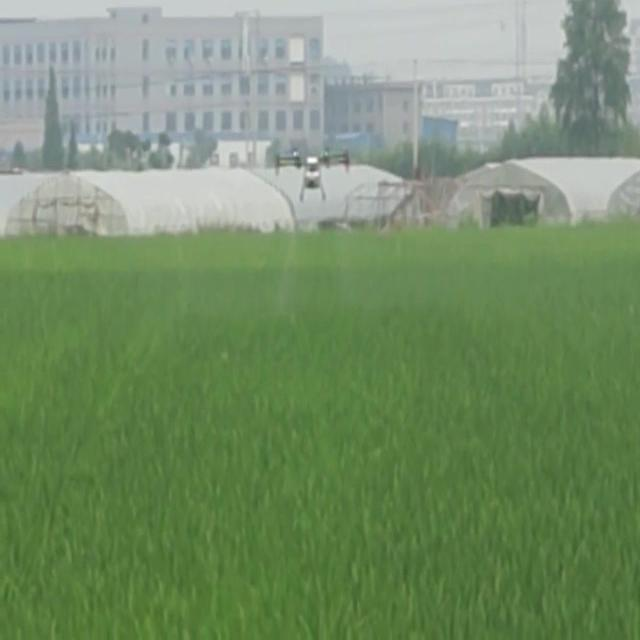drone: (273, 143, 351, 204)
